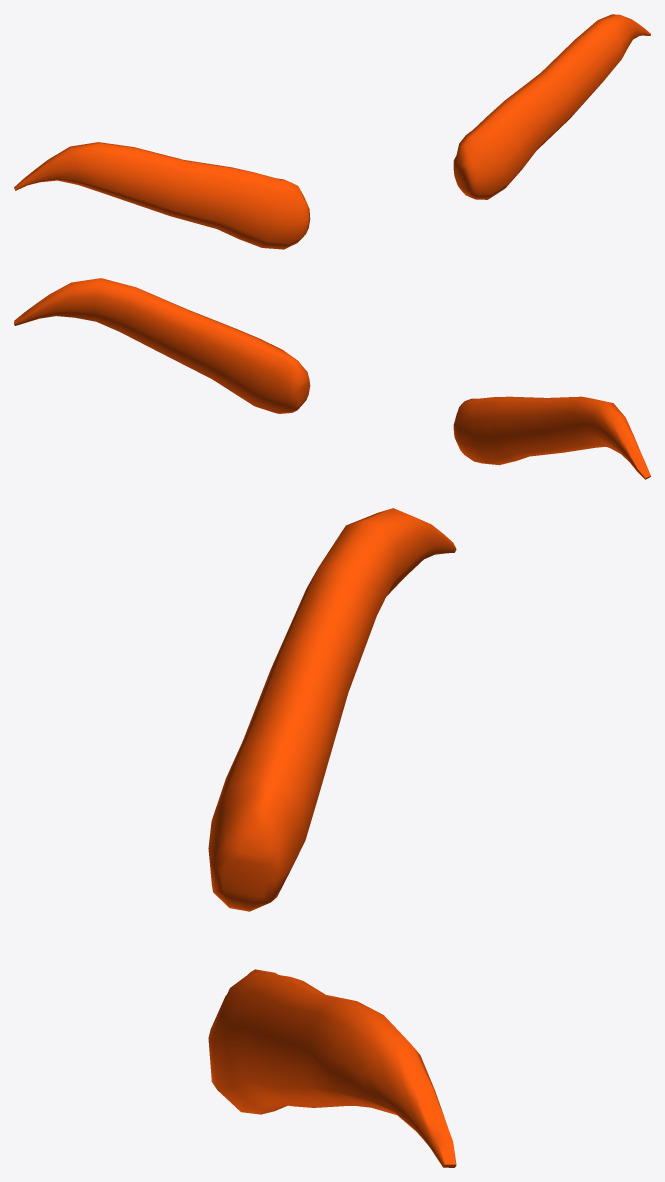
Rendered from Eyebrows_02_06.fbx.
The picture shows the model from 3 angles, top to bottom: view 1: azimuth 30°, elevation 25°; view 2: azimuth 150°, elevation 25°; view 3: azimuth 270°, elevation 25°; orthographic projection. The views are drawn at different scales.
Visible parts, largest first — view 1: Eyebrows_02_06; view 2: Eyebrows_02_06; view 3: Eyebrows_02_06.
Boxes of the visible parts, <box> form: Eyebrows_02_06: <box>14,14,650,249</box>; Eyebrows_02_06: <box>14,278,650,479</box>; Eyebrows_02_06: <box>208,508,456,1167</box>.
Bounding box in the file's own units: 18.03 × 3.24 × 3.04.
